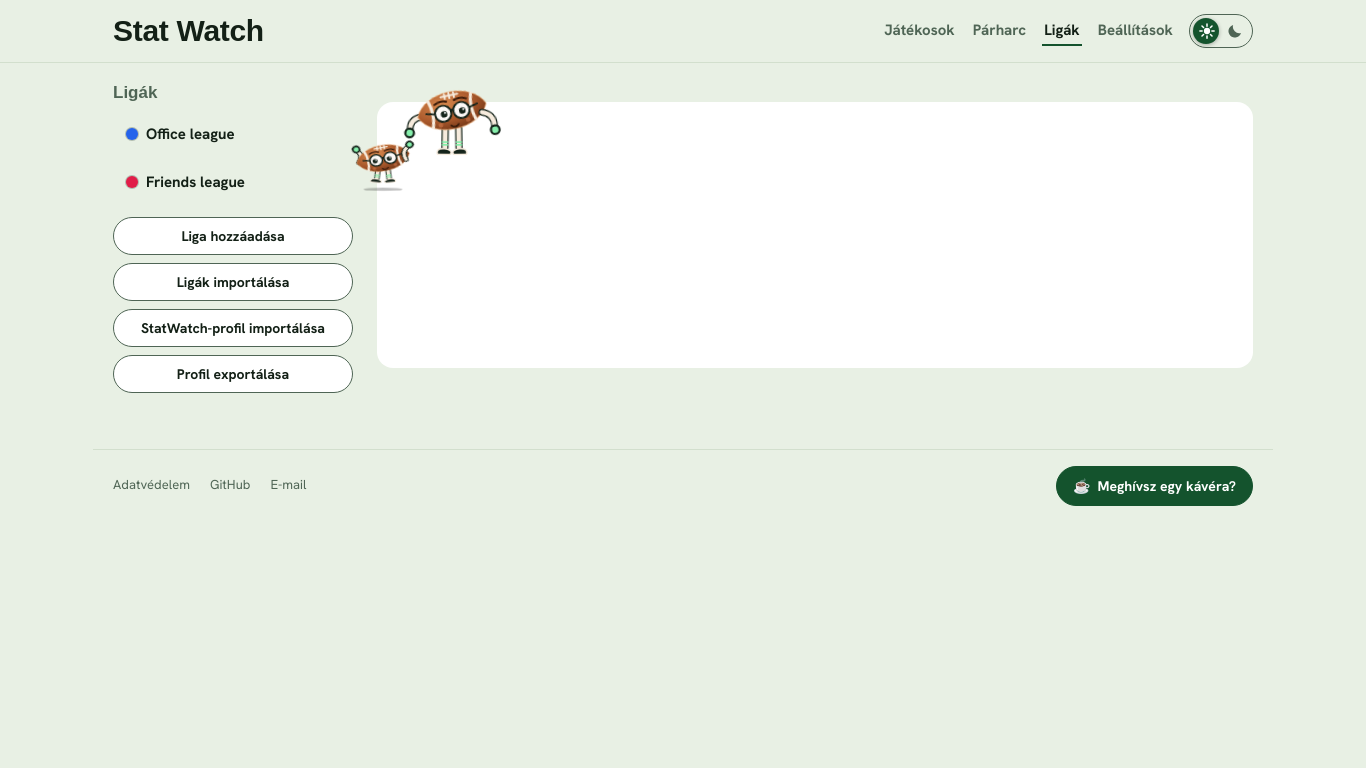
Test: Leagues in Hungarian › asks in Hungarian what happens to the players when a league is deleted
This screenshot has width=1366, height=768.
Click the button "Office league".
click(233, 135)  # box [113,113,353,157]
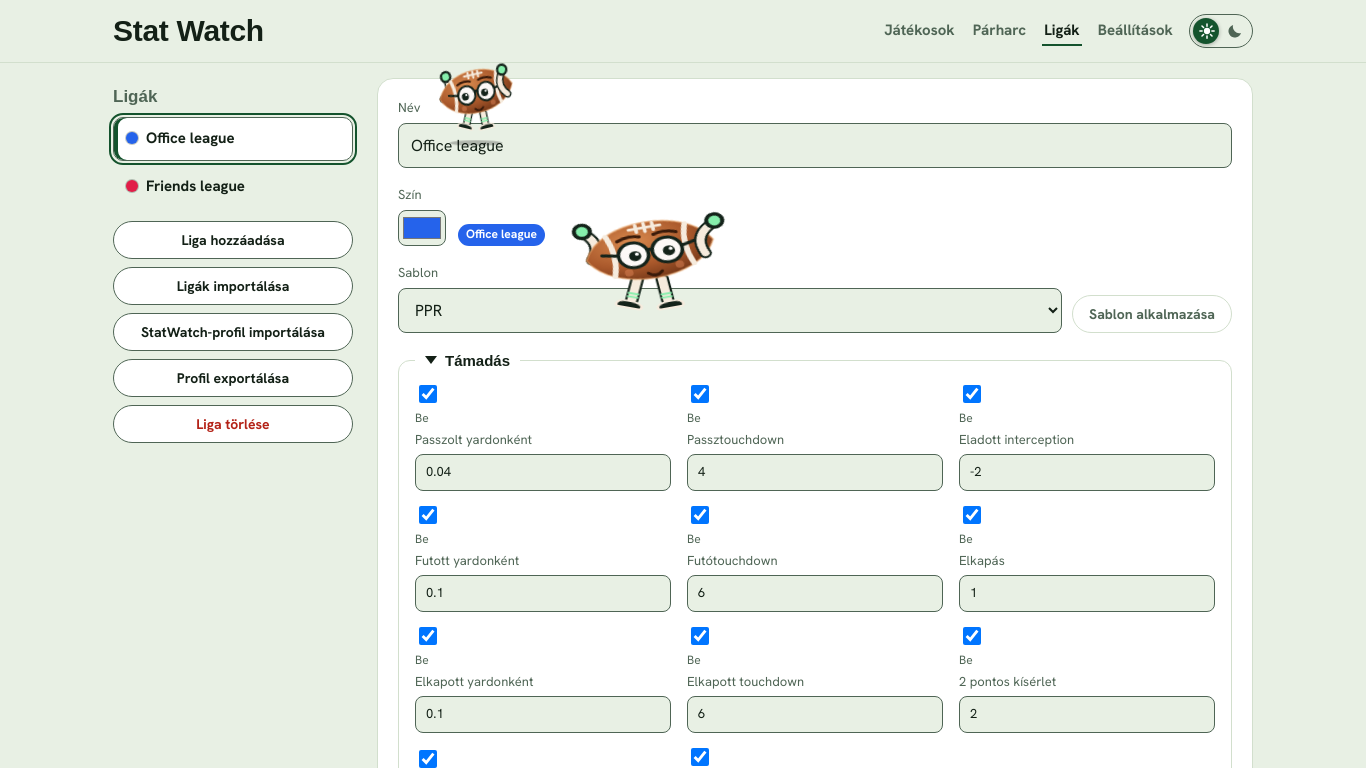
Click the button "Liga törlése".
click(233, 424)  # box [113,404,353,442]
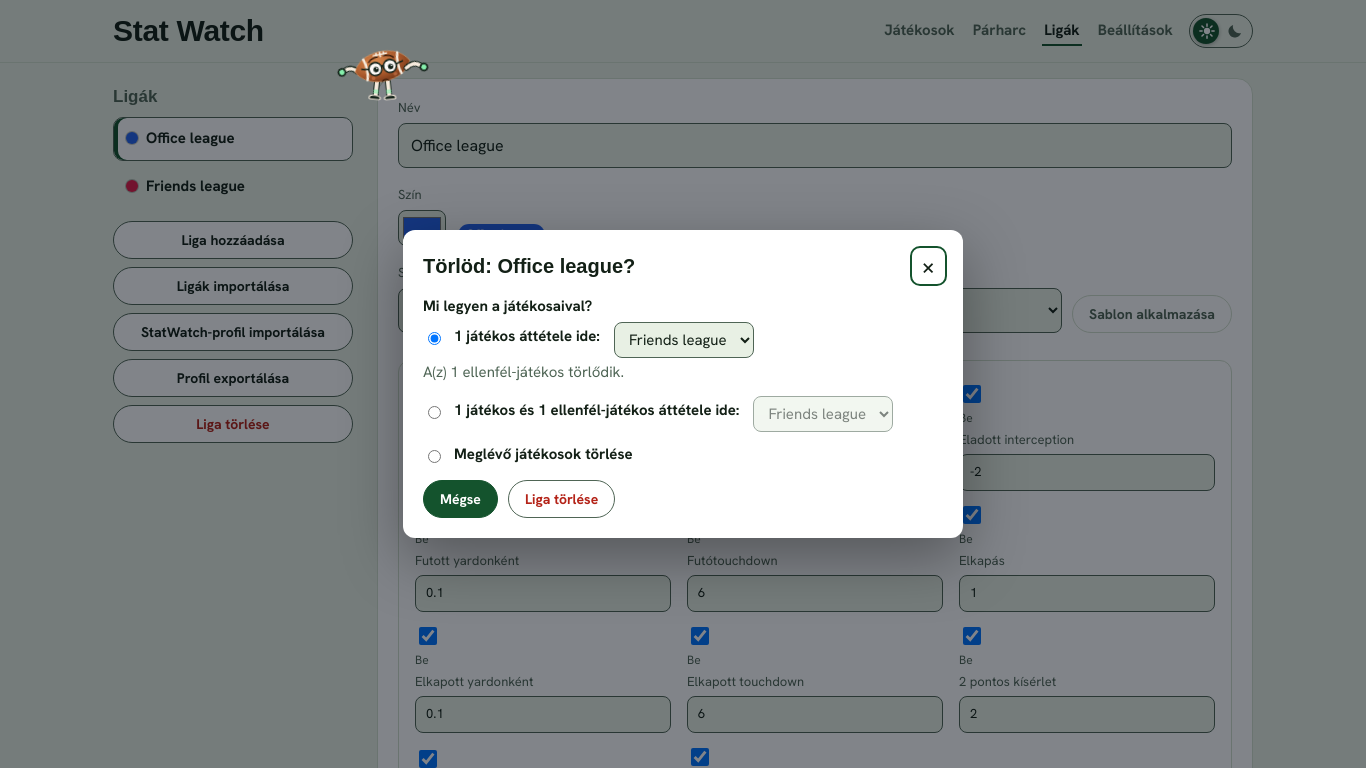
Result: the heading "Törlöd: Office league?" is shown at [423,254,635,278]
Result: the text "Mi legyen a játékosaival?" is shown at [423,296,592,318]
Result: the text "1 játékos áttétele ide:" is shown at [423,326,600,348]
